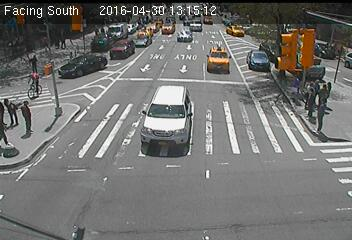neg: (148, 76, 172, 107), (211, 127, 234, 158), (217, 6, 239, 34), (22, 71, 42, 98), (177, 105, 197, 132), (105, 187, 125, 213), (154, 5, 173, 32), (103, 106, 122, 131), (250, 144, 269, 168), (175, 43, 193, 68), (122, 35, 140, 59), (262, 10, 280, 34), (204, 62, 222, 85), (288, 179, 304, 201), (290, 139, 306, 160), (119, 68, 134, 88), (152, 171, 167, 191), (175, 189, 189, 208), (257, 104, 270, 122), (251, 44, 264, 61), (302, 20, 315, 37), (25, 164, 37, 180), (256, 192, 268, 208), (51, 166, 63, 181), (57, 123, 68, 138), (146, 56, 157, 71), (55, 10, 66, 25), (219, 185, 230, 199), (67, 185, 77, 198), (25, 14, 35, 27), (97, 167, 106, 180)
pos: (10, 97, 39, 135), (308, 95, 334, 131), (318, 79, 341, 110), (301, 87, 323, 116), (312, 83, 334, 112), (298, 77, 318, 104), (24, 47, 42, 71), (308, 73, 324, 95), (53, 31, 69, 52), (51, 32, 65, 51), (88, 22, 102, 41), (95, 22, 106, 36)
